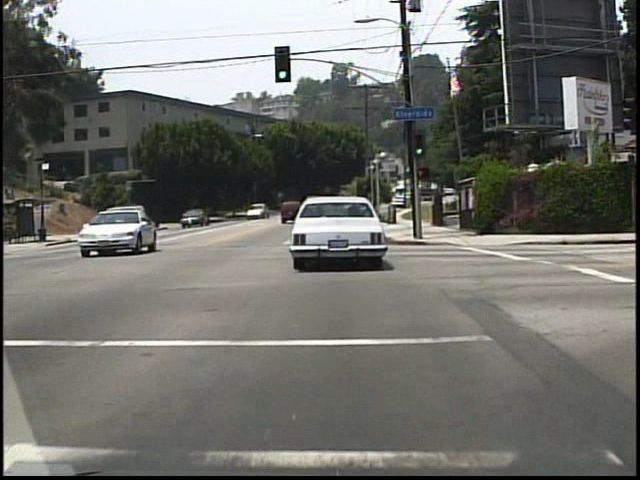person: (135, 209, 145, 232)
